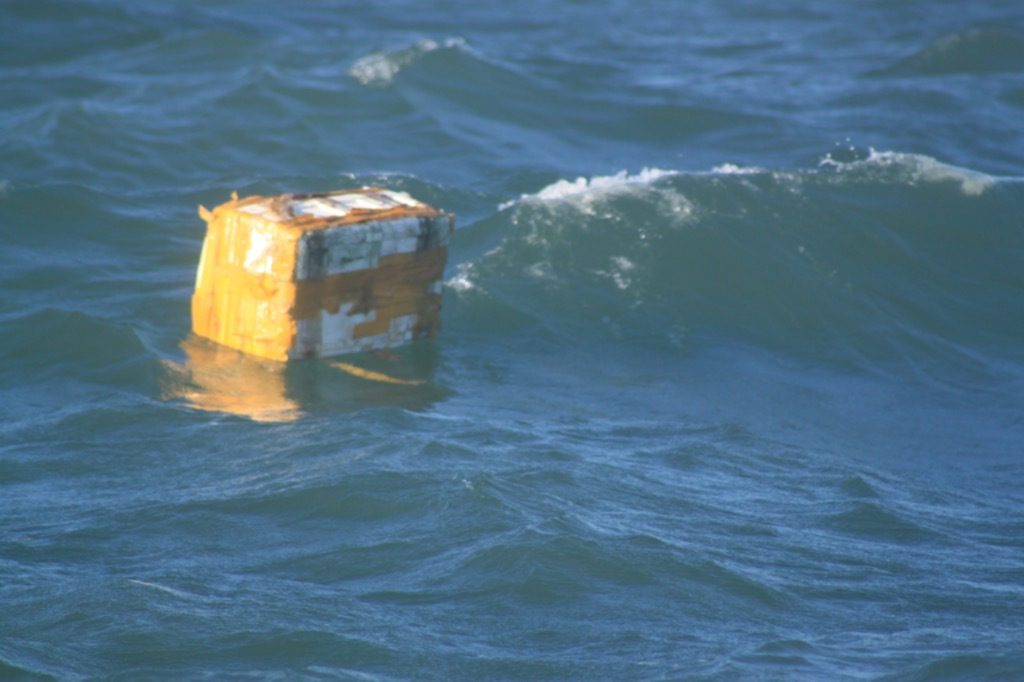plastic: (129, 148, 476, 541)
